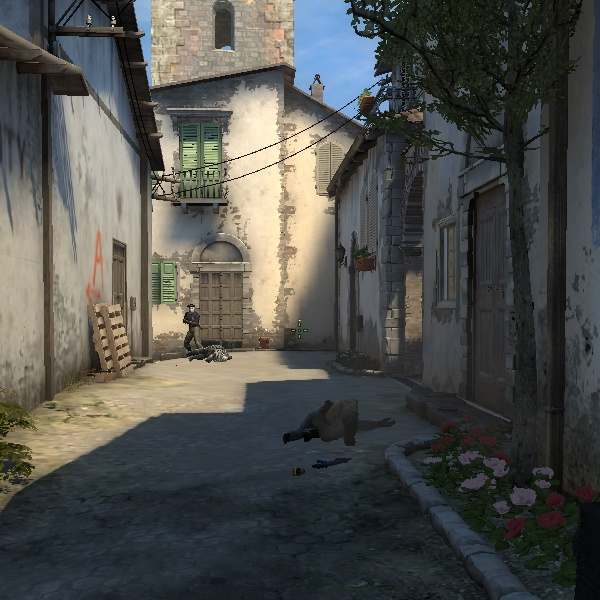ct_body: (179, 303, 205, 356)
